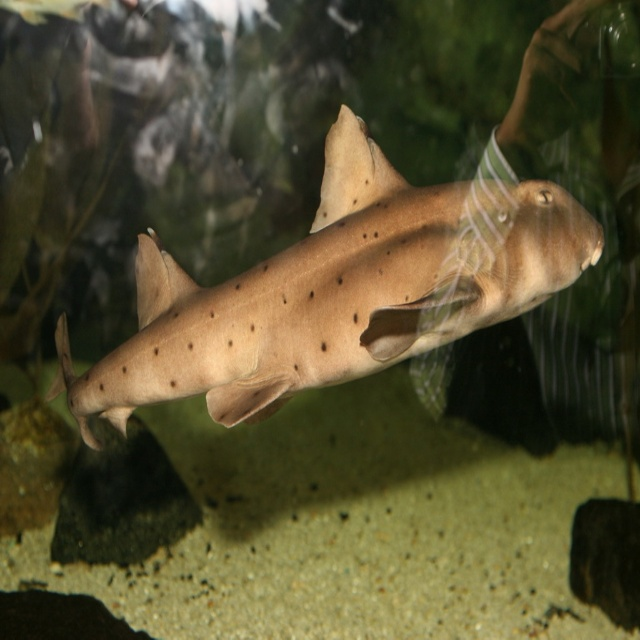Fish: (56, 106, 605, 455)
